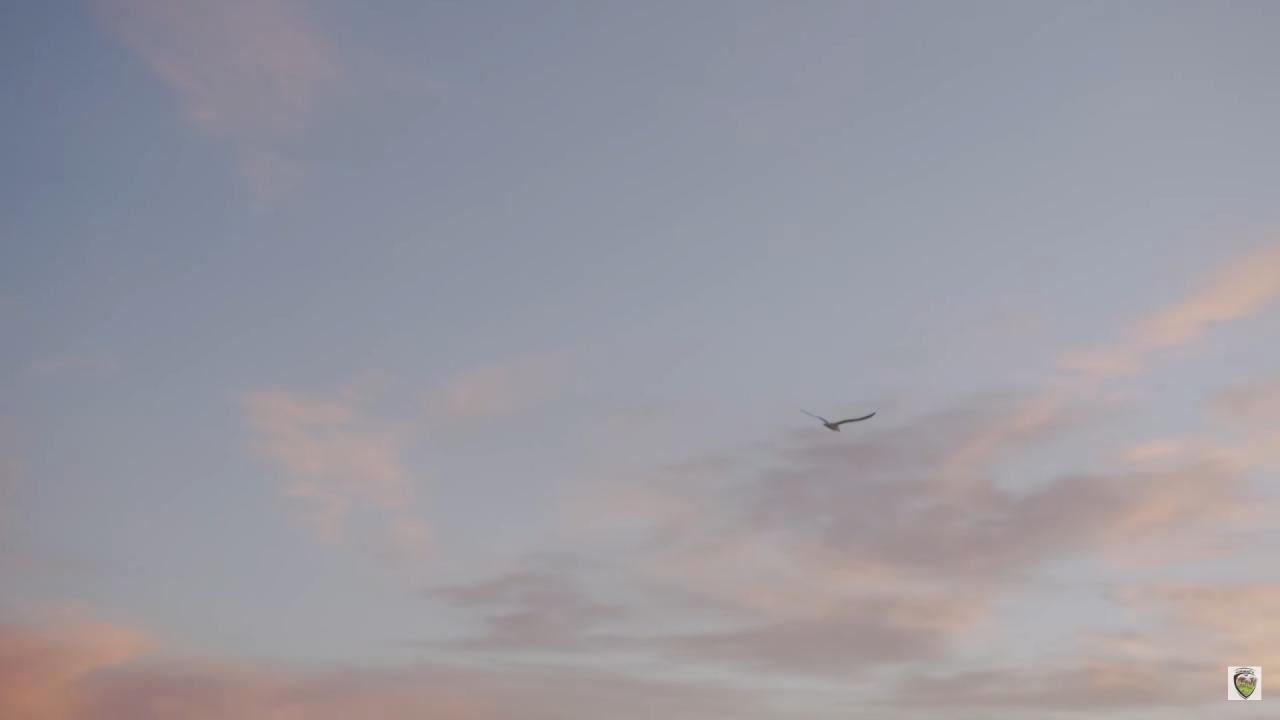Bird: (787, 396, 883, 451)
